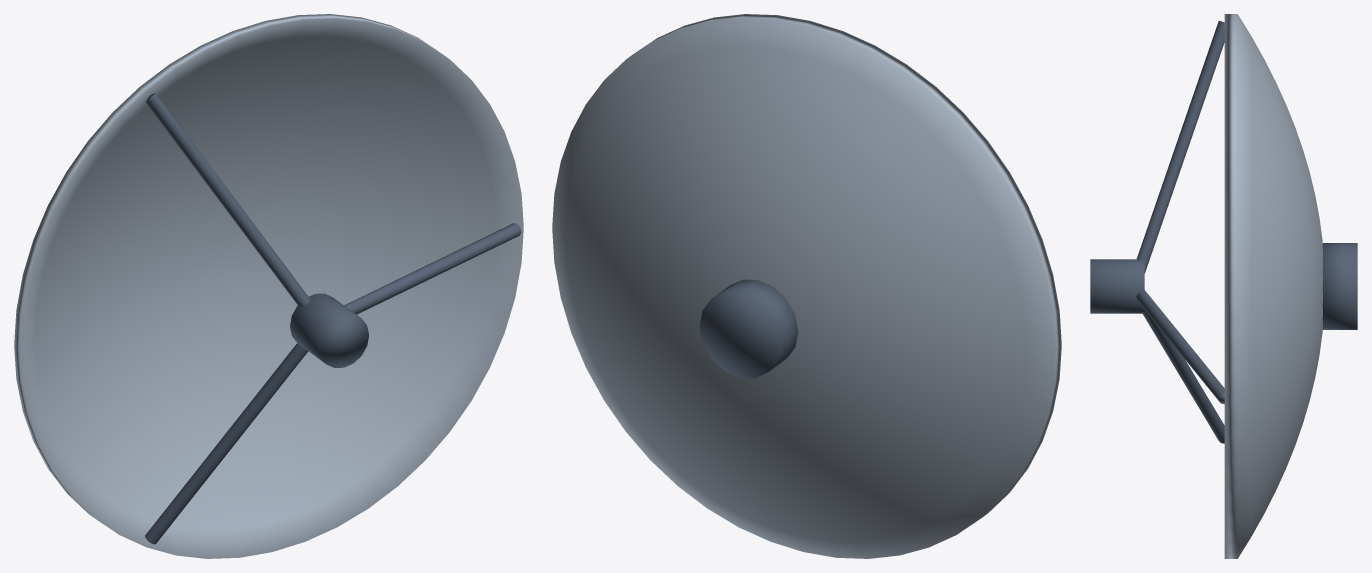
File: SM_Antenne_Parabole.obj
The picture shows the model from 3 angles, left to right: view 1: azimuth 30°, elevation 25°; view 2: azimuth 150°, elevation 25°; view 3: azimuth 270°, elevation 25°; orthographic projection. The views are drawn at different scales.
Size of the model in its own units: 5000 by 5000 by 2453.
